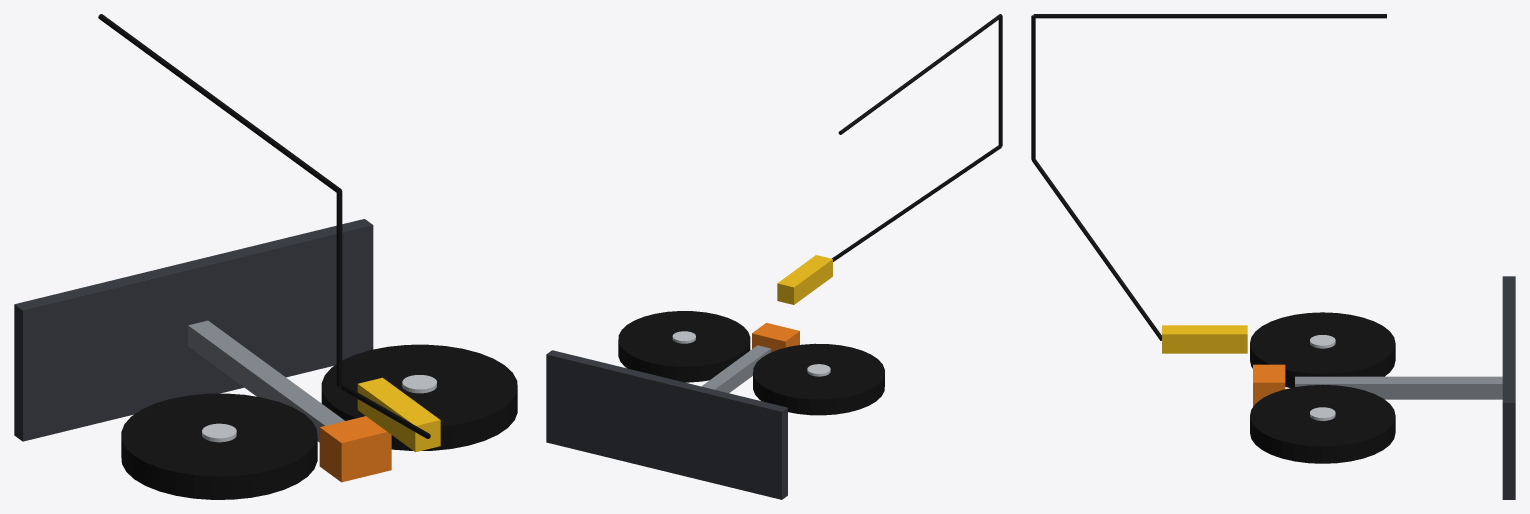
The model's file is 17_rolos_borracha_emenda.obj.
3 views of the same model, side by side, from view 1: azimuth 30°, elevation 25°; view 2: azimuth 150°, elevation 25°; view 3: azimuth 270°, elevation 25° (orthographic). The views are drawn at different scales.
Parts seen in each view (by area): view 1: Suporte_Rolos_Base, Rolo_Perfil_A, Rolo_Perfil_B, Suporte_Rolos_Coluna, Emendadora_Perfil, Buffer_Dancarino, Perfil_Alimentacao_3, Perfil_Alimentacao_2, Perfil_Alimentacao_1, Rolo_Perfil_A_Cubo, Rolo_Perfil_B_Cubo; view 2: Suporte_Rolos_Base, Rolo_Perfil_A, Rolo_Perfil_B, Buffer_Dancarino, Suporte_Rolos_Coluna, Emendadora_Perfil, Perfil_Alimentacao_1, Perfil_Alimentacao_3, Perfil_Alimentacao_2; view 3: Rolo_Perfil_B, Rolo_Perfil_A, Suporte_Rolos_Coluna, Suporte_Rolos_Base, Buffer_Dancarino, Perfil_Alimentacao_3, Perfil_Alimentacao_1, Emendadora_Perfil, Perfil_Alimentacao_2.
Boxes of the visible parts, x1=… form: Suporte_Rolos_Base: x1=14, y1=219, x2=373, y2=441; Rolo_Perfil_A: x1=121, y1=393, x2=317, y2=499; Rolo_Perfil_B: x1=321, y1=344, x2=517, y2=450; Suporte_Rolos_Coluna: x1=188, y1=320, x2=344, y2=442; Emendadora_Perfil: x1=319, y1=416, x2=391, y2=482; Buffer_Dancarino: x1=357, y1=377, x2=440, y2=452; Perfil_Alimentacao_3: x1=98, y1=14, x2=341, y2=192; Perfil_Alimentacao_2: x1=336, y1=190, x2=342, y2=386; Perfil_Alimentacao_1: x1=337, y1=383, x2=430, y2=438; Rolo_Perfil_A_Cubo: x1=202, y1=423, x2=236, y2=442; Rolo_Perfil_B_Cubo: x1=402, y1=375, x2=436, y2=393; Suporte_Rolos_Base: x1=546, y1=350, x2=787, y2=499; Rolo_Perfil_A: x1=753, y1=343, x2=884, y2=415; Rolo_Perfil_B: x1=618, y1=311, x2=750, y2=382; Buffer_Dancarino: x1=777, y1=255, x2=832, y2=304; Suporte_Rolos_Coluna: x1=701, y1=345, x2=770, y2=393; Emendadora_Perfil: x1=752, y1=323, x2=799, y2=352; Perfil_Alimentacao_1: x1=832, y1=145, x2=1001, y2=261; Perfil_Alimentacao_3: x1=838, y1=14, x2=1002, y2=134; Perfil_Alimentacao_2: x1=998, y1=16, x2=1002, y2=146; Rolo_Perfil_B: x1=1250, y1=384, x2=1395, y2=463; Rolo_Perfil_A: x1=1250, y1=312, x2=1395, y2=387; Suporte_Rolos_Coluna: x1=1295, y1=376, x2=1502, y2=399; Suporte_Rolos_Base: x1=1502, y1=276, x2=1515, y2=499; Buffer_Dancarino: x1=1162, y1=325, x2=1247, y2=353; Perfil_Alimentacao_3: x1=1033, y1=14, x2=1386, y2=18; Perfil_Alimentacao_1: x1=1032, y1=159, x2=1161, y2=340; Emendadora_Perfil: x1=1253, y1=364, x2=1285, y2=406; Perfil_Alimentacao_2: x1=1031, y1=15, x2=1035, y2=160.
Bounding box in the file's own units: 1.48 × 1.85 × 2.26.
